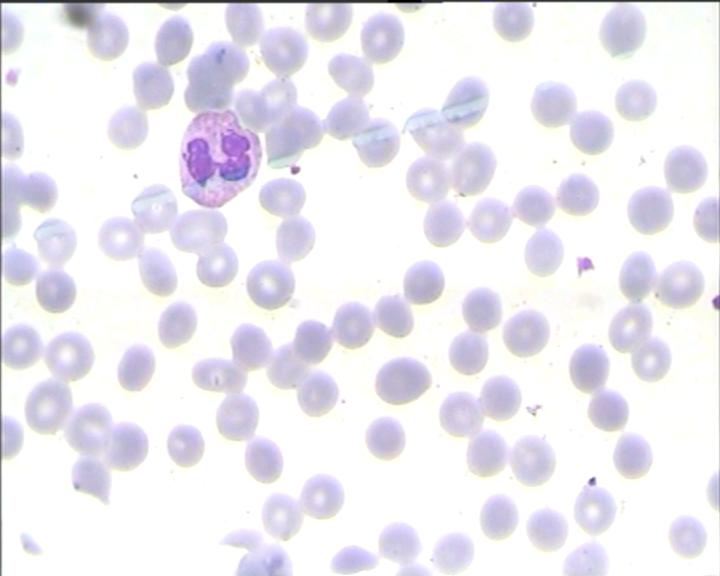neut: (178, 109, 261, 211)
